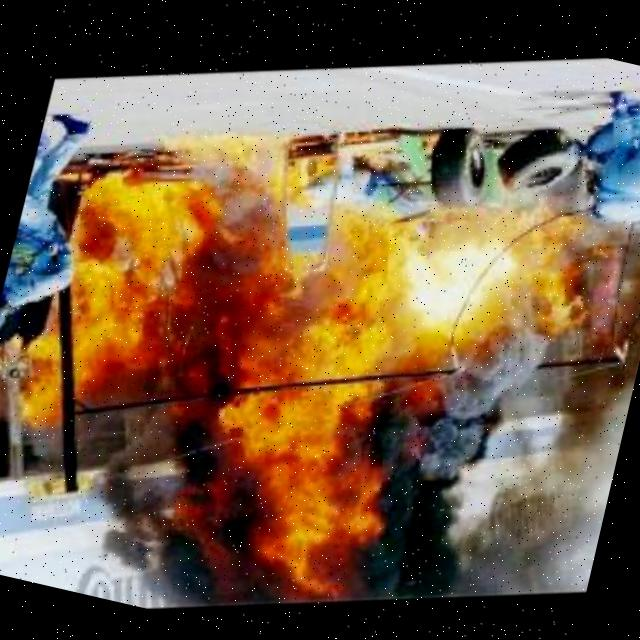fire: (155, 148, 453, 596), (0, 144, 218, 457), (365, 176, 598, 340)
